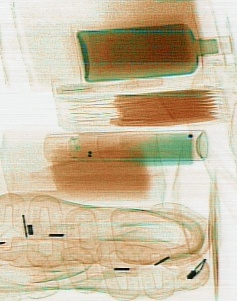pressure: (40, 127, 209, 162)
